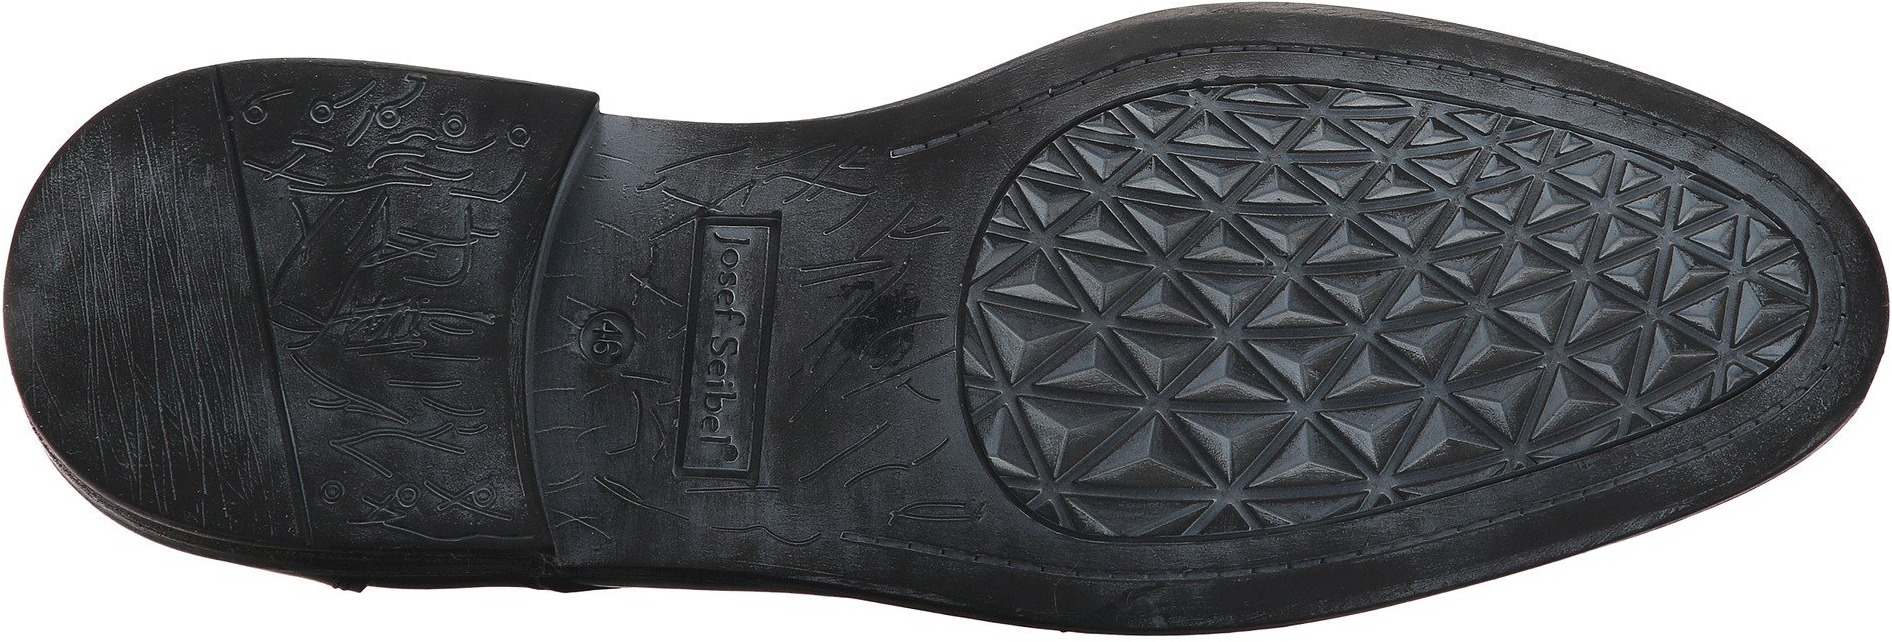circle: (571, 284, 661, 390)
quad: (667, 198, 789, 492)
text: (667, 198, 789, 492), (571, 284, 661, 390)
triangle: (1036, 194, 1376, 519), (1392, 132, 1716, 427)
